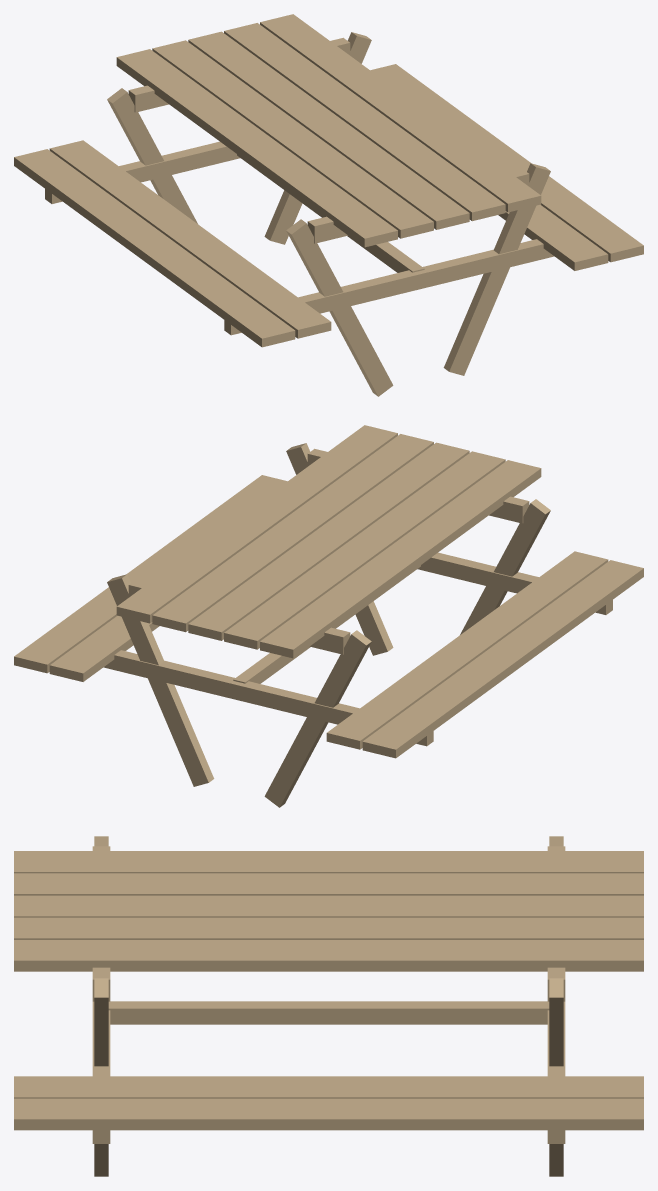
The model's file is picnictable.glb.
3 views of the same model, one above another, from view 1: azimuth 30°, elevation 25°; view 2: azimuth 150°, elevation 25°; view 3: azimuth 270°, elevation 25° (orthographic). The views are drawn at different scales.
Visible parts, largest first — view 1: PT_bench.001, PT_top, PT_bench, PT_top.003, PT_top.004, PT_top.001, PT_top.002, PT_bench.003, PT_bcleat, PT_leg.001, PT_leg, PT_bench.002 (+6 smaller); view 2: PT_bench.001, PT_top, PT_bench, PT_top.003, PT_top.004, PT_top.001, PT_top.002, PT_bench.003, PT_bcleat.001, PT_leg.003, PT_leg.002, PT_bench.002 (+6 smaller); view 3: PT_bench.003, PT_top.004, PT_bench.002, PT_top, PT_top.001, PT_top.002, PT_top.003, PT_brace, PT_leg.001, PT_leg.003, PT_bcleat.001, PT_bcleat.
Part boxes in pixels (x1=…): PT_bench.001: x1=14, y1=149, x2=295, y2=347; PT_top: x1=116, y1=49, x2=397, y2=247; PT_bench: x1=49, y1=140, x2=331, y2=338; PT_top.003: x1=224, y1=23, x2=505, y2=221; PT_top.004: x1=260, y1=14, x2=541, y2=212; PT_top.001: x1=152, y1=40, x2=433, y2=238; PT_top.002: x1=188, y1=31, x2=469, y2=229; PT_bench.003: x1=370, y1=64, x2=643, y2=262; PT_bcleat: x1=224, y1=239, x2=554, y2=335; PT_leg.001: x1=443, y1=163, x2=550, y2=375; PT_leg: x1=286, y1=219, x2=393, y2=396; PT_bench.002: x1=498, y1=204, x2=608, y2=270; PT_bench.001: x1=362, y1=560, x2=643, y2=758; PT_top: x1=260, y1=460, x2=541, y2=658; PT_bench: x1=326, y1=551, x2=608, y2=749; PT_top.003: x1=152, y1=434, x2=433, y2=632; PT_top.004: x1=116, y1=425, x2=397, y2=623; PT_top.001: x1=224, y1=451, x2=505, y2=649; PT_top.002: x1=188, y1=442, x2=469, y2=640; PT_bench.003: x1=14, y1=475, x2=287, y2=673; PT_bcleat.001: x1=103, y1=650, x2=433, y2=746; PT_leg.003: x1=107, y1=574, x2=214, y2=786; PT_leg.002: x1=264, y1=630, x2=371, y2=807; PT_bench.002: x1=49, y1=615, x2=159, y2=681; PT_bench.003: x1=14, y1=1098, x2=643, y2=1130; PT_top.004: x1=14, y1=940, x2=643, y2=971; PT_bench.002: x1=14, y1=1076, x2=643, y2=1098; PT_top: x1=14, y1=851, x2=643, y2=873; PT_top.001: x1=14, y1=873, x2=643, y2=895; PT_top.002: x1=14, y1=895, x2=643, y2=917; PT_top.003: x1=14, y1=917, x2=643, y2=939; PT_brace: x1=108, y1=1001, x2=549, y2=1024; PT_leg.001: x1=94, y1=978, x2=108, y2=1176; PT_leg.003: x1=549, y1=978, x2=563, y2=1176; PT_bcleat.001: x1=547, y1=1001, x2=565, y2=1143; PT_bcleat: x1=92, y1=1001, x2=110, y2=1143.
Size of the model in its own units: 1.6 by 0.7704 by 1.8.
